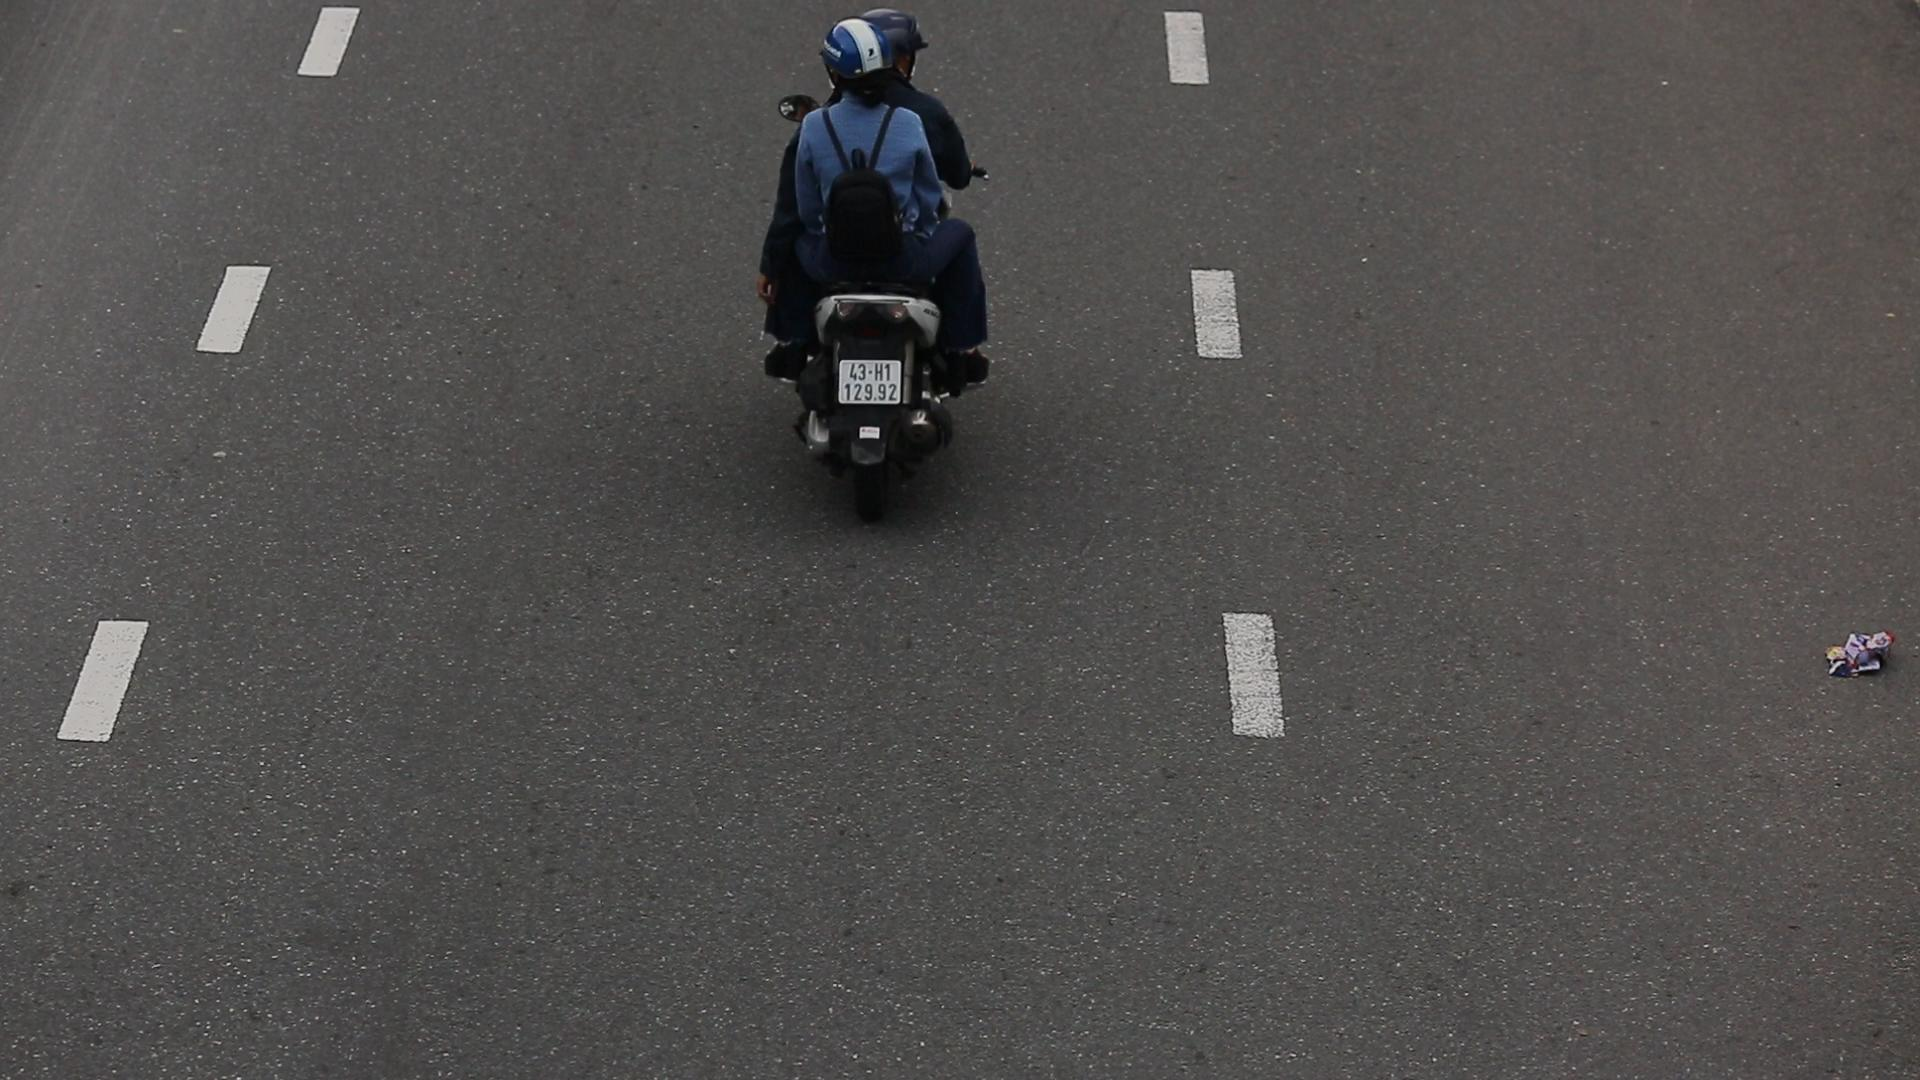motobike: (742, 0, 1013, 464)
